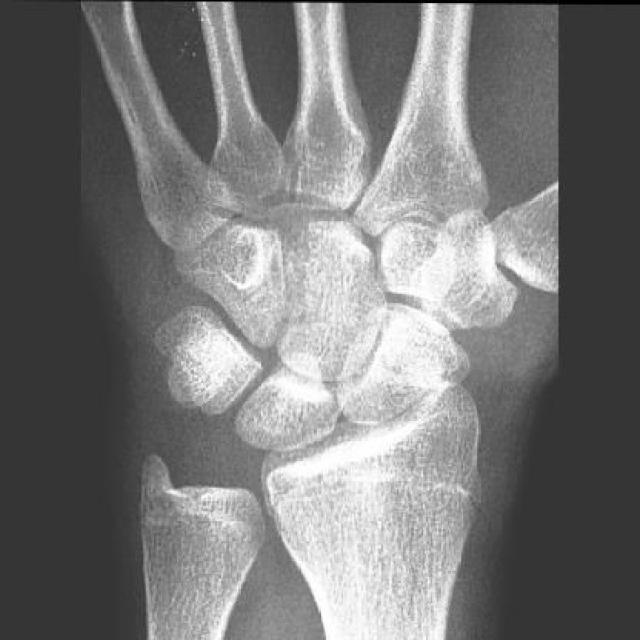Fracture: (269, 201, 369, 329), (368, 339, 457, 389)
